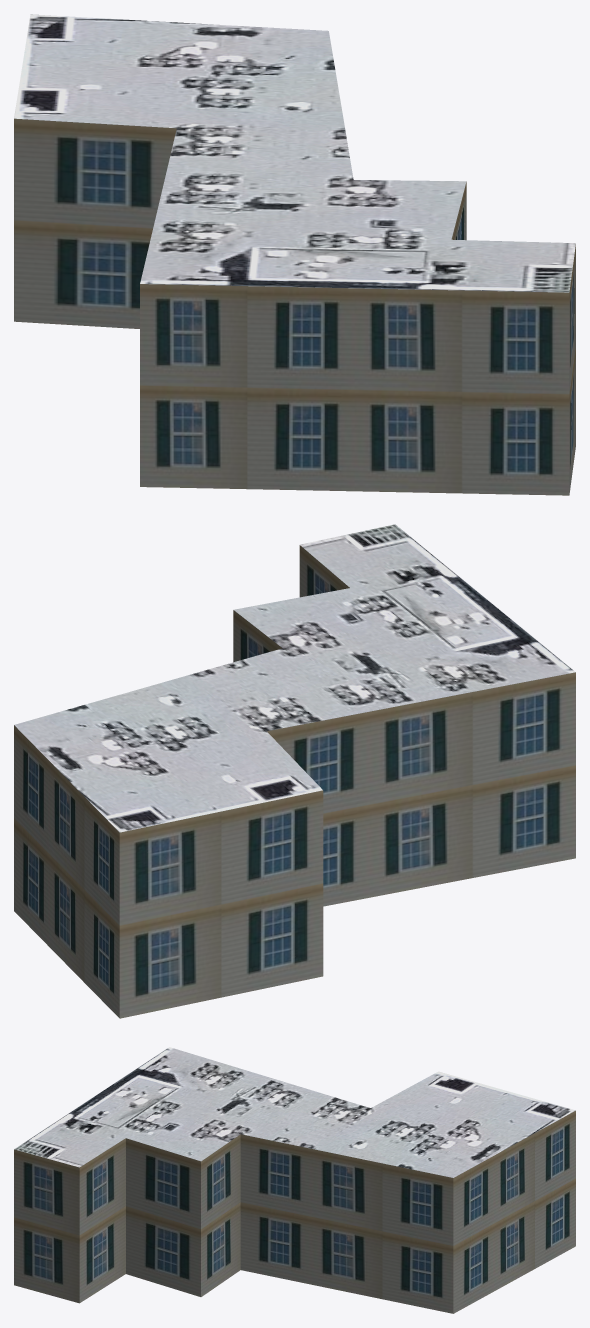
File: ResTex__3362.fbx
The picture shows the model from 3 angles, top to bottom: view 1: azimuth 30°, elevation 25°; view 2: azimuth 150°, elevation 25°; view 3: azimuth 270°, elevation 25°; orthographic projection. The views are drawn at different scales.
Visible parts, largest first — view 1: CityEngineMaterial_7_m, CityEngineMaterial_2_m; view 2: CityEngineMaterial_7_m, CityEngineMaterial_2_m; view 3: CityEngineMaterial_7_m, CityEngineMaterial_2_m.
Boxes of the visible parts, <box> form: CityEngineMaterial_7_m: <box>14,118,575,495</box>; CityEngineMaterial_2_m: <box>14,14,575,292</box>; CityEngineMaterial_7_m: <box>14,545,575,1018</box>; CityEngineMaterial_2_m: <box>14,524,575,832</box>; CityEngineMaterial_7_m: <box>14,1110,575,1313</box>; CityEngineMaterial_2_m: <box>14,1047,575,1177</box>.
Size of the model in its own units: 12.4 by 6 by 22.49.
2 materials, 2 textured.
